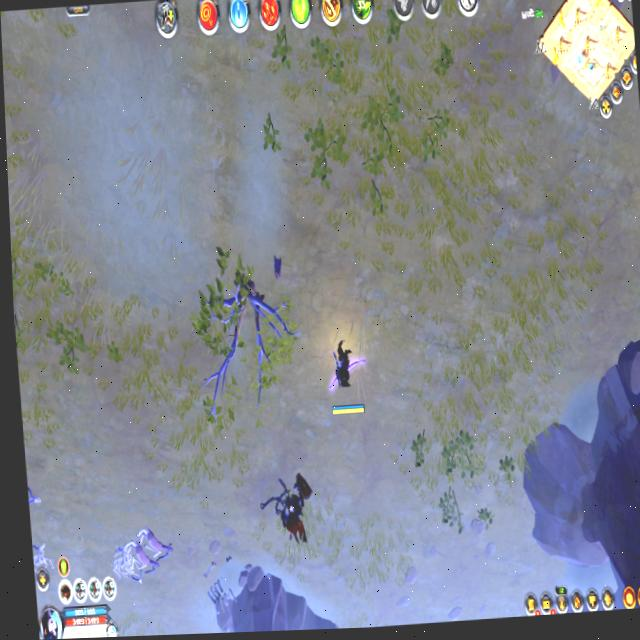mob: (121, 519, 175, 578)
ore: (275, 470, 317, 550)
red: (321, 335, 369, 420)
